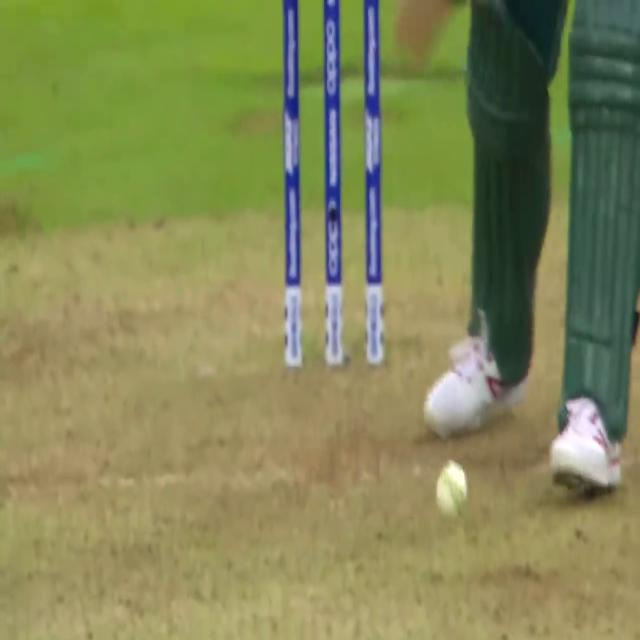ball: (434, 454, 470, 526)
